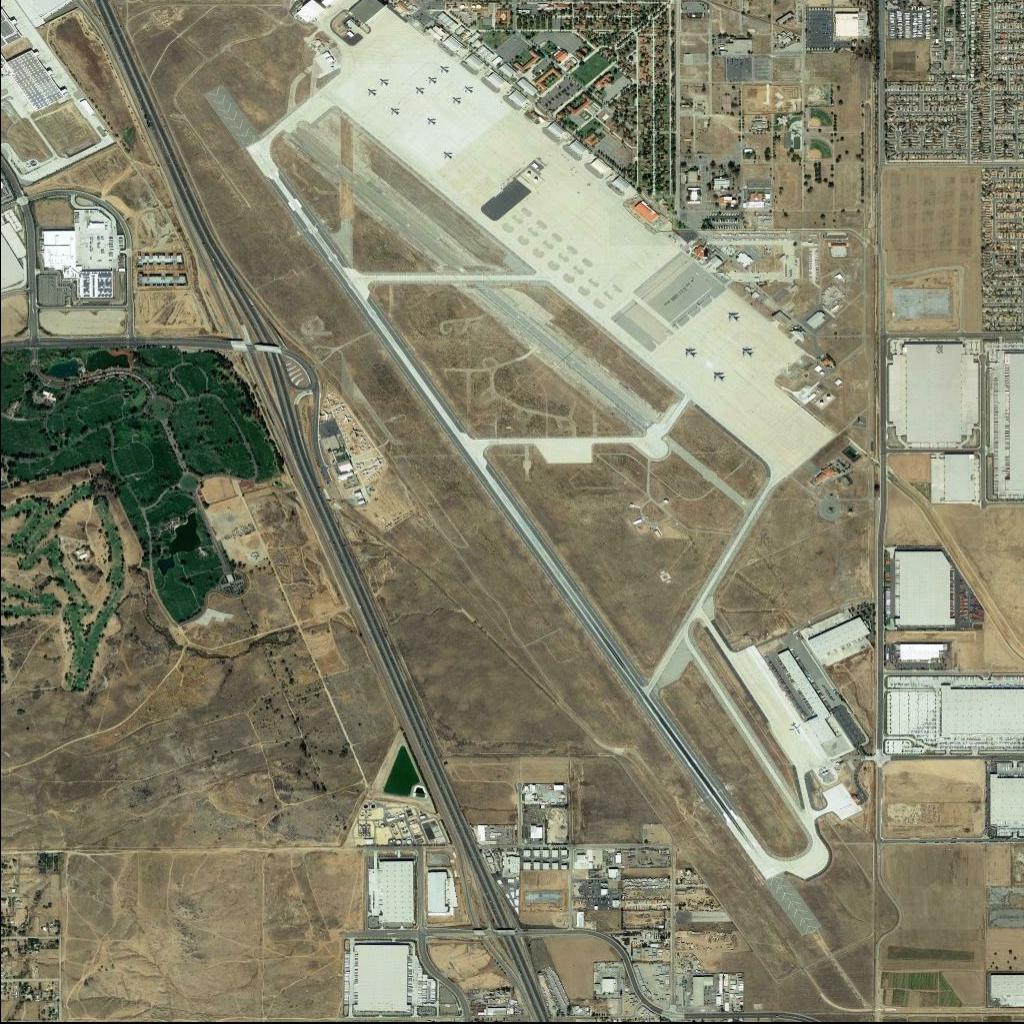plane: (725, 308, 743, 326), (787, 721, 806, 738), (709, 370, 730, 384), (682, 345, 700, 359), (440, 147, 455, 163), (738, 346, 755, 359), (346, 426, 362, 439), (425, 74, 440, 87), (388, 104, 402, 117), (376, 76, 390, 89), (365, 86, 380, 98), (414, 84, 427, 97), (424, 116, 439, 127), (438, 64, 452, 75), (461, 83, 475, 94), (342, 413, 352, 424), (452, 96, 462, 105)
